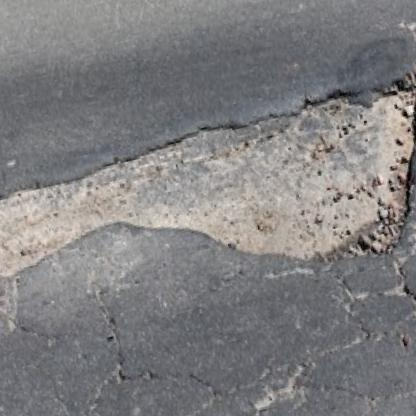pothole: (0, 63, 416, 350)
